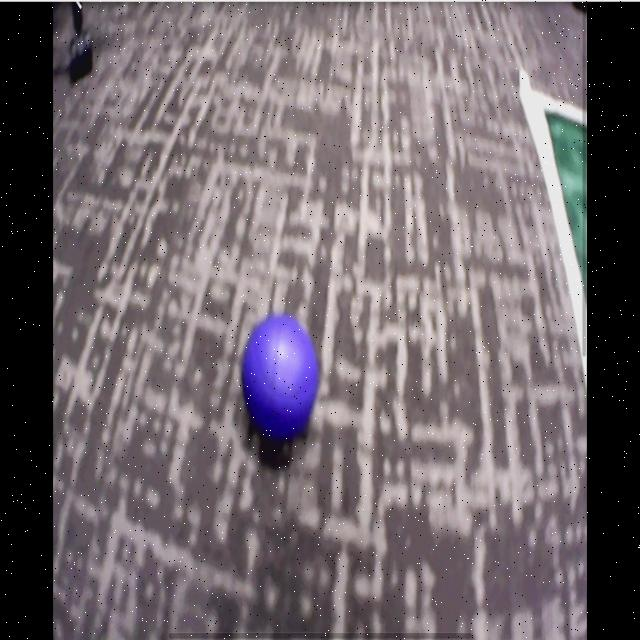ball: (244, 318, 318, 431)
